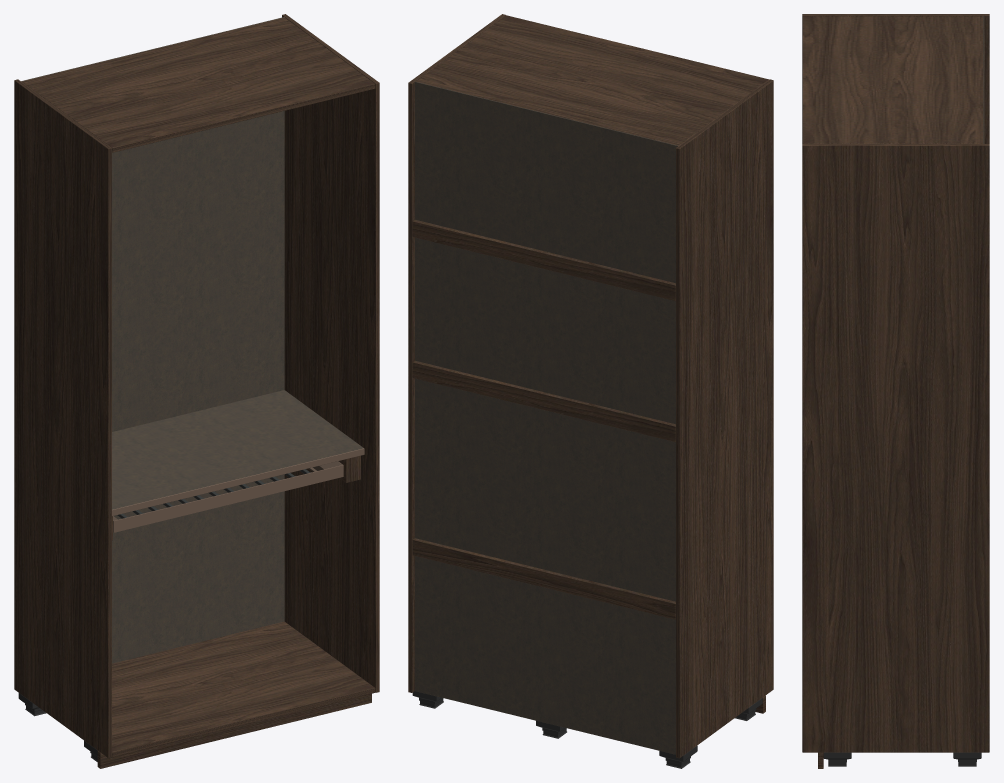
3 renders of one model, left to right at view 1: azimuth 30°, elevation 25°; view 2: azimuth 150°, elevation 25°; view 3: azimuth 270°, elevation 25°, orthographic.
Visible parts, largest first — view 1: HK1001083, BONG_01; view 2: HK1001083; view 3: HK1001083.
Boxes of the visible parts, left/top/right/bottom form: HK1001083: left=14, top=14, right=379, bottom=768; BONG_01: left=112, top=448, right=364, bottom=532; HK1001083: left=408, top=14, right=773, bottom=768; HK1001083: left=802, top=14, right=989, bottom=768.
Bounding box in the file's own units: 1 × 2.2 × 0.6.
8 materials, 7 textured.
